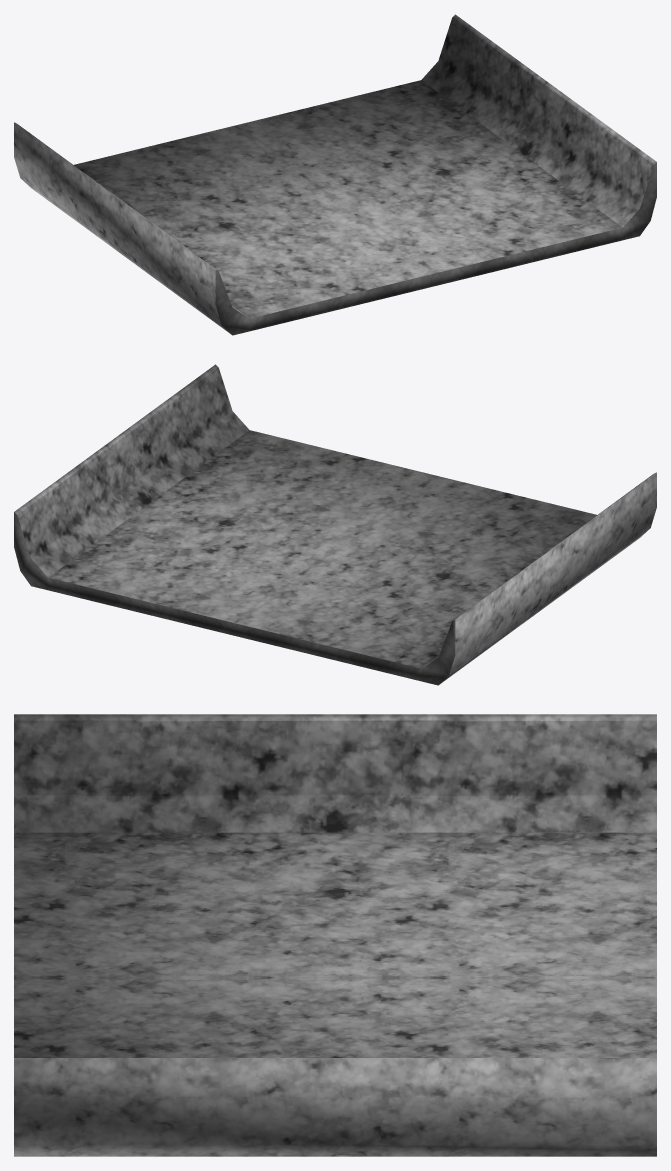
Rendered from TrackP1.fbx.
3 views of the same model, one above another, from view 1: azimuth 30°, elevation 25°; view 2: azimuth 150°, elevation 25°; view 3: azimuth 270°, elevation 25° (orthographic). The views are drawn at different scales.
Visible parts, largest first — view 1: Cube; view 2: Cube; view 3: Cube.
Boxes of the visible parts, bbox=[...] form: Cube: bbox=[14, 14, 656, 335]; Cube: bbox=[14, 364, 656, 685]; Cube: bbox=[14, 714, 656, 1156].
Bounding box in the file's own units: 20.95 × 3.18 × 16.57.
1 material, 1 textured.
